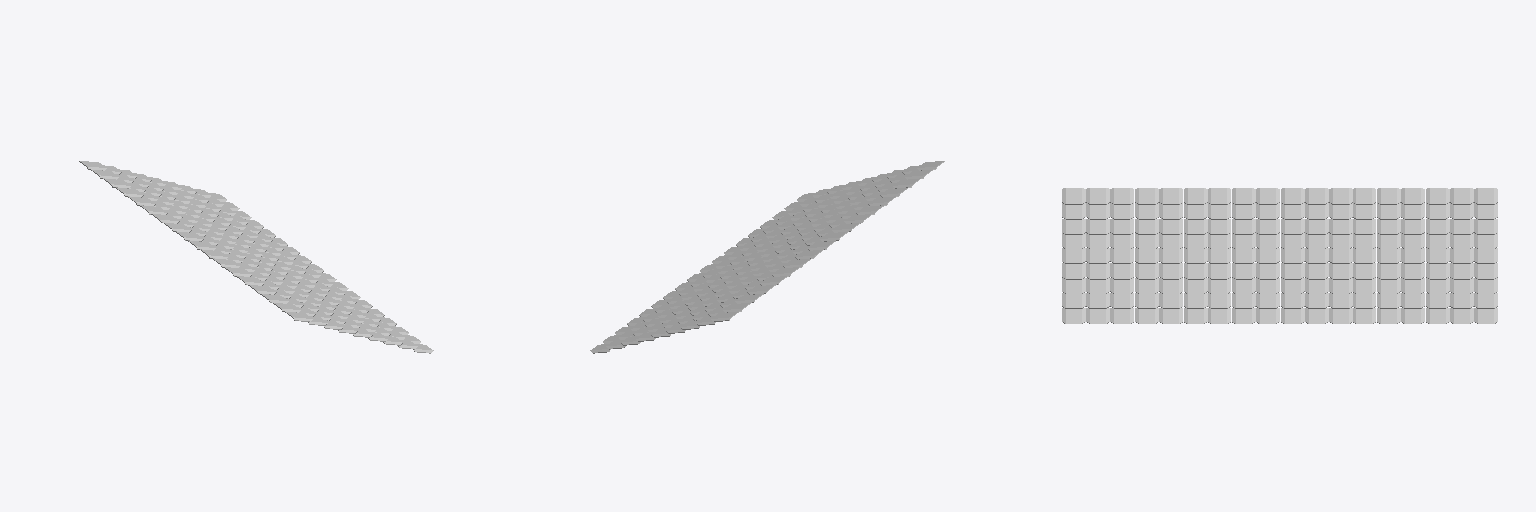
The model's file is roof.obj.
The picture shows the model from 3 angles: view 1: azimuth 30°, elevation 25°; view 2: azimuth 150°, elevation 25°; view 3: azimuth 270°, elevation 25°; orthographic projection.
Parts seen in each view (by area): view 1: polySurface490; view 2: polySurface490; view 3: polySurface490.
Part boxes in pixels (left/top/right/bottom): polySurface490: left=79, top=161, right=433, bottom=353; polySurface490: left=590, top=161, right=944, bottom=353; polySurface490: left=1062, top=188, right=1497, bottom=323.
Bounding box in the file's own units: 6.55 × 3.02 × 17.54.